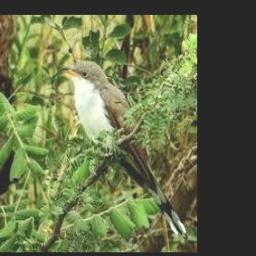Cuckoo: (58, 61, 187, 236)
